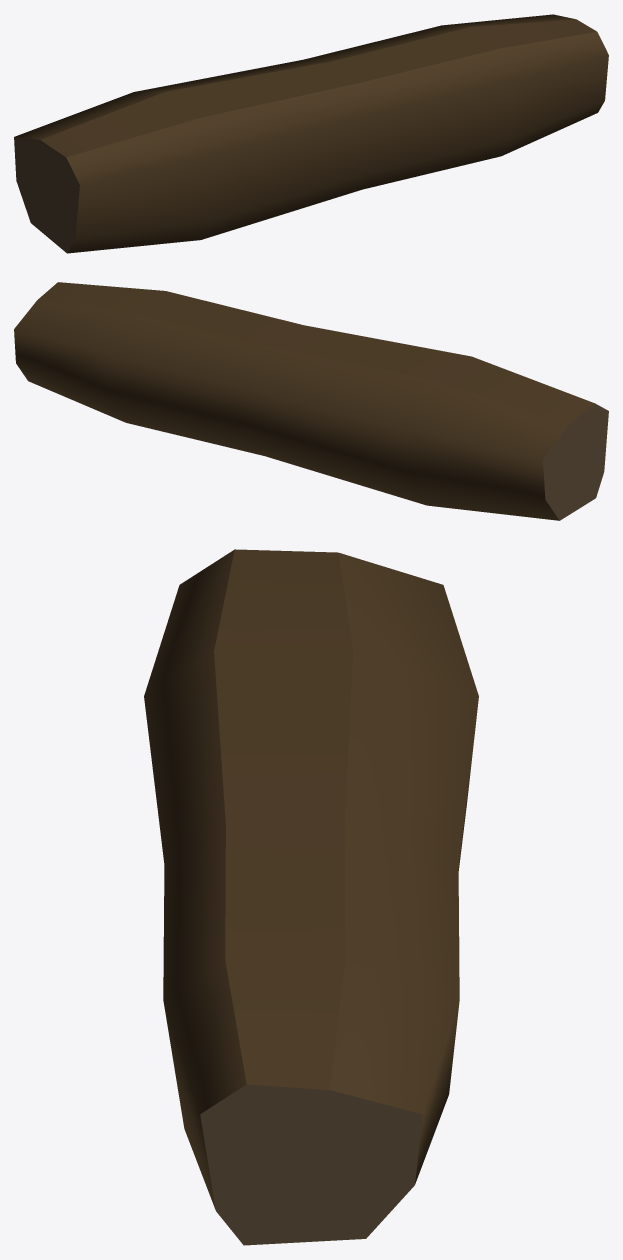
File: Charcoal.fbx
3 renders of one model, top to bottom at view 1: azimuth 30°, elevation 25°; view 2: azimuth 150°, elevation 25°; view 3: azimuth 270°, elevation 25°, orthographic. The views are drawn at different scales.
Parts seen in each view (by area): view 1: Charcoal; view 2: Charcoal; view 3: Charcoal.
Boxes of the visible parts, x1=… form: Charcoal: x1=14, y1=14, x2=608, y2=253; Charcoal: x1=14, y1=282, x2=608, y2=520; Charcoal: x1=144, y1=549, x2=478, y2=1245.
Size of the model in its own units: 16.36 by 3.57 by 4.44.
